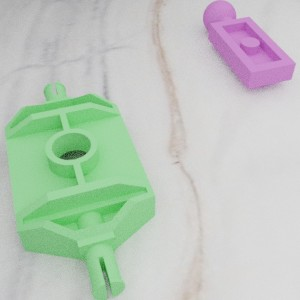lego: (4, 81, 155, 300), (202, 0, 296, 89)
